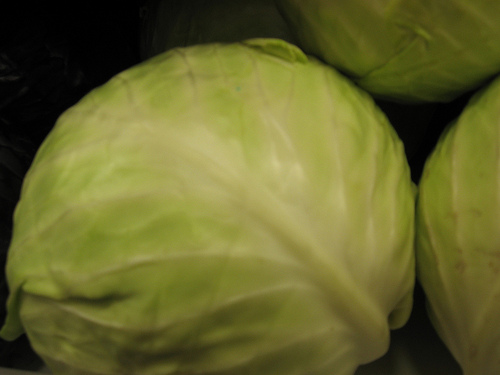cabbage: (3, 35, 421, 374), (421, 83, 499, 374)
